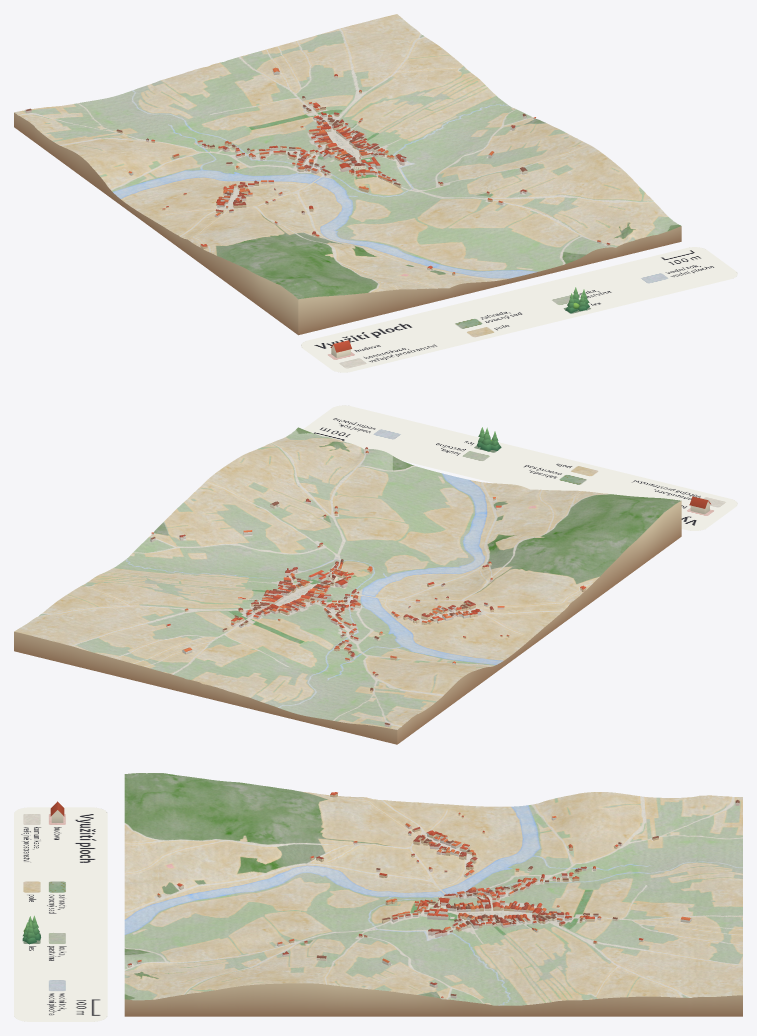
File: Frymburk_base_SMO5.glb
The picture shows the model from 3 angles, top to bottom: view 1: azimuth 30°, elevation 25°; view 2: azimuth 150°, elevation 25°; view 3: azimuth 270°, elevation 25°; orthographic projection. The views are drawn at different scales.
Visible parts, largest first — view 1: DMR_SMO5, legenda_panel, budovy_SMO5, legenda_objekty; view 2: DMR_SMO5, legenda_panel, budovy_SMO5, legenda_objekty; view 3: DMR_SMO5, legenda_panel, budovy_SMO5, legenda_objekty.
Boxes of the visible parts, left/top/right/bottom form: DMR_SMO5: left=14, top=14, right=681, bottom=335; legenda_panel: left=301, top=247, right=737, bottom=372; budovy_SMO5: left=25, top=67, right=610, bottom=275; legenda_objekty: left=330, top=287, right=589, bottom=357; DMR_SMO5: left=14, top=427, right=681, bottom=744; legenda_panel: left=303, top=405, right=737, bottom=530; budovy_SMO5: left=150, top=447, right=586, bottom=726; legenda_objekty: left=477, top=427, right=710, bottom=514; DMR_SMO5: left=124, top=773, right=742, bottom=1016; legenda_panel: left=14, top=807, right=107, bottom=1021; budovy_SMO5: left=127, top=792, right=739, bottom=999; legenda_objekty: left=22, top=801, right=64, bottom=944.
Size of the model in its own units: 1490 by 133 by 2140.
Materials: 6 (2 with a texture image).
